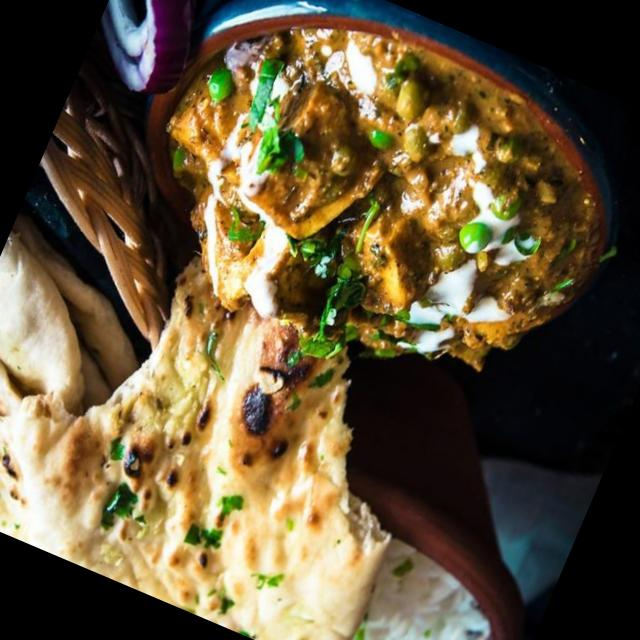roti: (0, 326, 321, 631)
